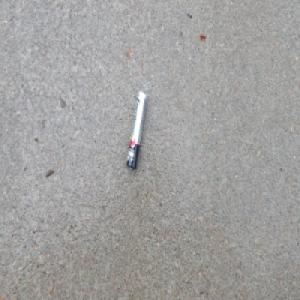Battery: (124, 88, 147, 171)
